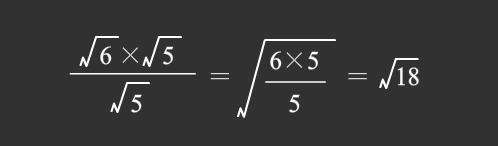division: (69, 68, 195, 79), (263, 79, 327, 86)
sqrt: (234, 33, 336, 118), (142, 33, 182, 71), (111, 81, 153, 115), (379, 57, 421, 91), (76, 32, 116, 66)
